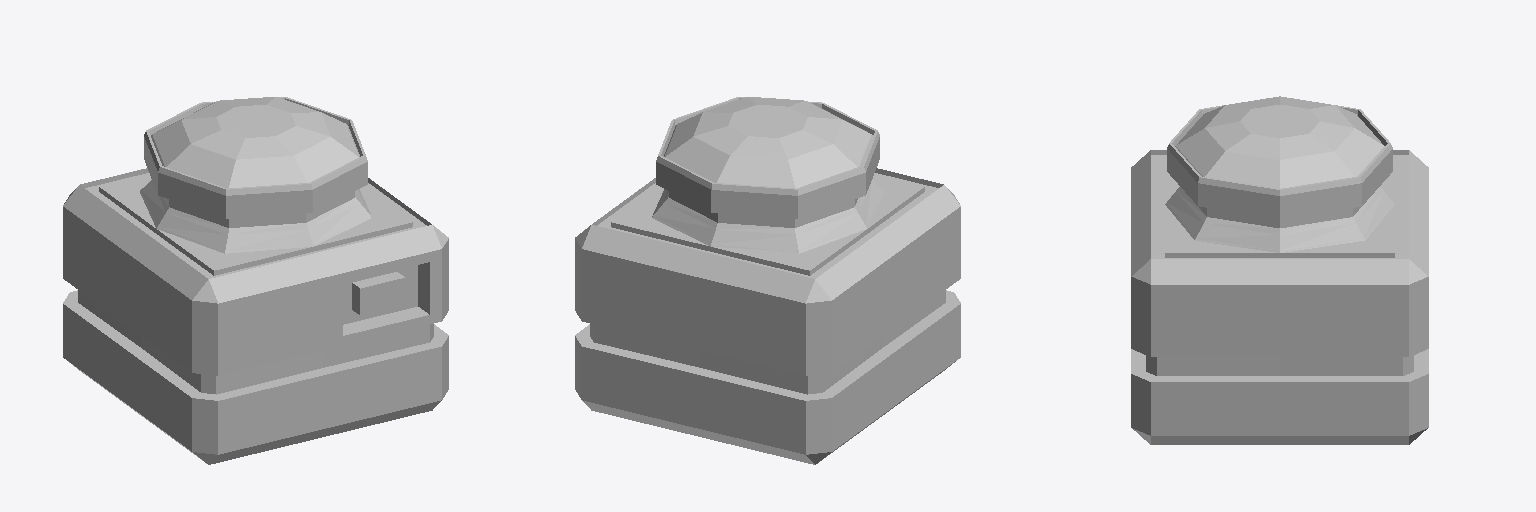
Rendered from fant_cfd_2.obj.
3 renders of one model, left to right at view 1: azimuth 30°, elevation 25°; view 2: azimuth 150°, elevation 25°; view 3: azimuth 270°, elevation 25°, orthographic.
Parts seen in each view (by area): view 1: cfd_Cube.001; view 2: cfd_Cube.001; view 3: cfd_Cube.001.
Part boxes in pixels (left/top/right/bottom): cfd_Cube.001: left=63, top=97, right=448, bottom=464; cfd_Cube.001: left=575, top=97, right=960, bottom=464; cfd_Cube.001: left=1131, top=96, right=1428, bottom=444.
Bounding box in the file's own units: 1 × 1 × 1.